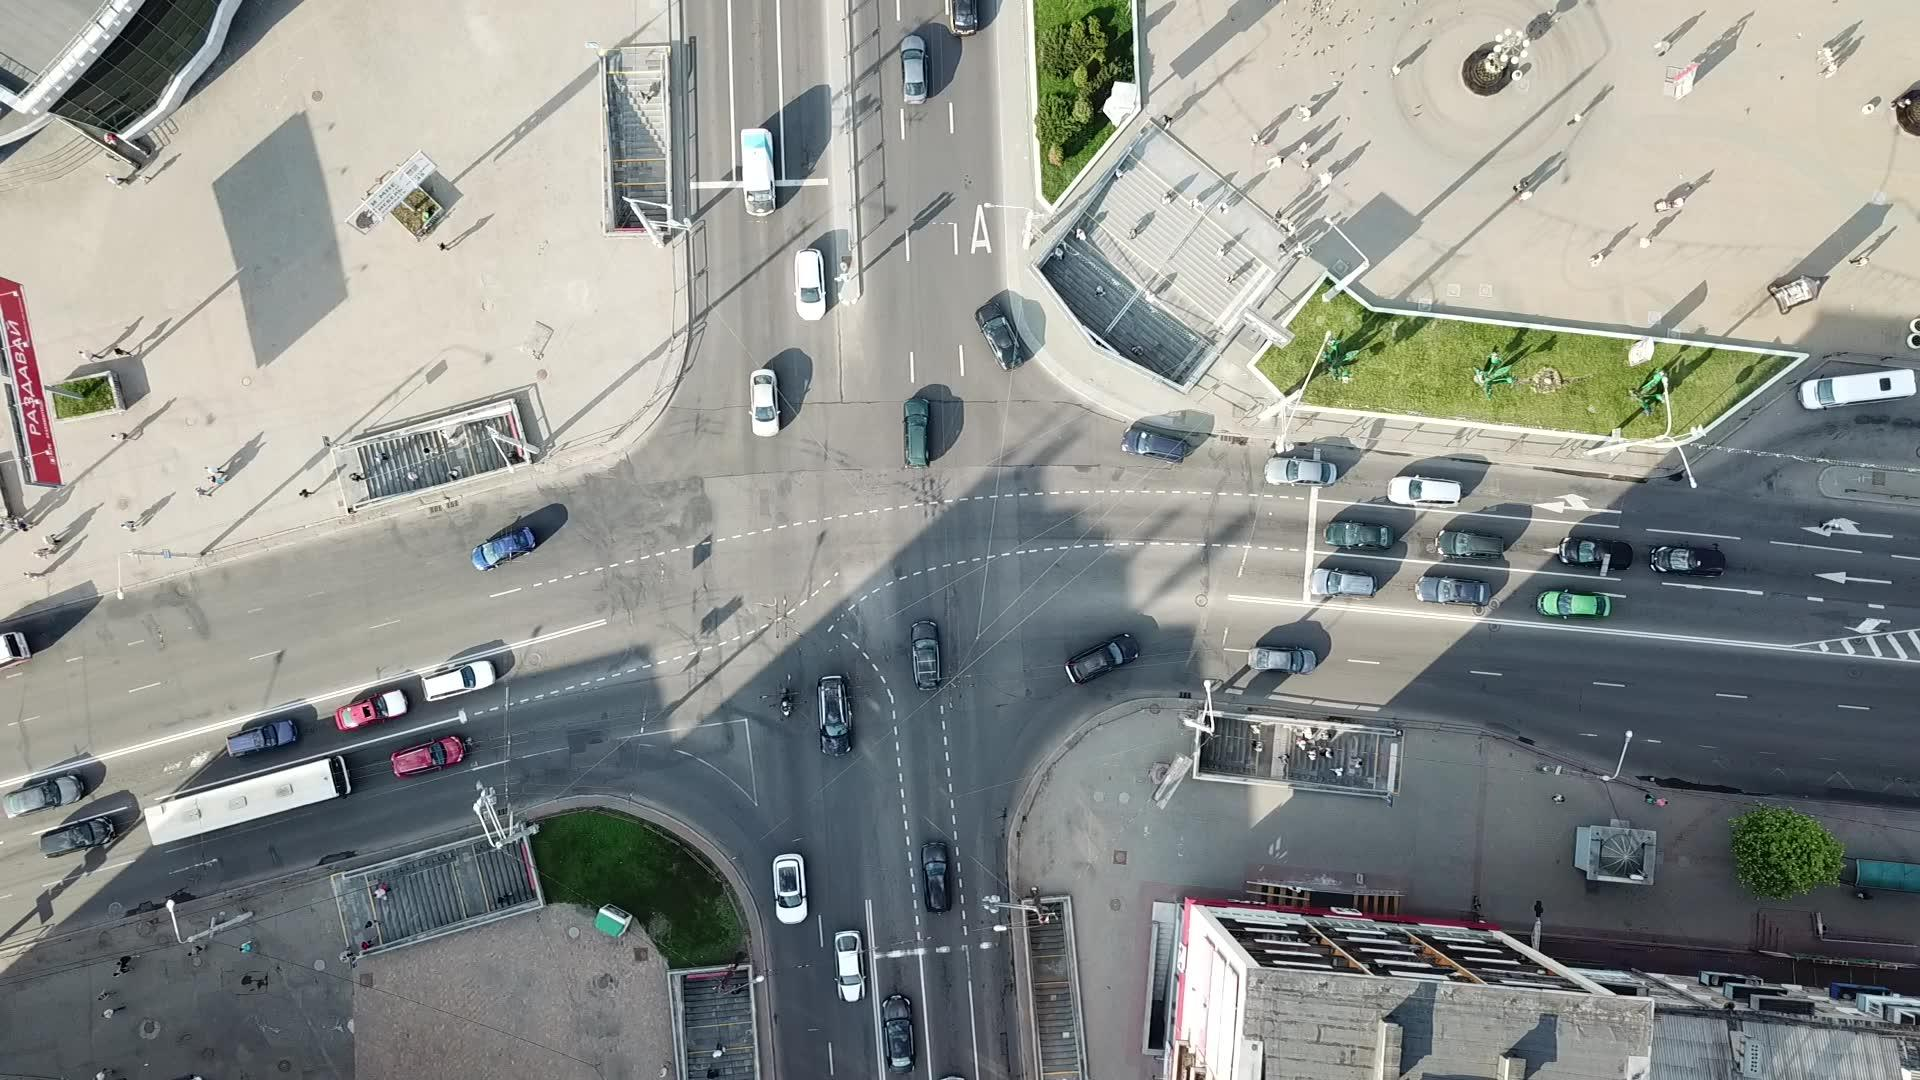car: (1063, 633, 1140, 684), (3, 768, 83, 817), (973, 301, 1025, 370), (389, 733, 466, 777), (39, 814, 113, 859), (334, 688, 408, 731), (881, 993, 919, 1076), (469, 525, 537, 570), (422, 659, 496, 700), (817, 675, 853, 758), (225, 719, 298, 755), (1647, 545, 1726, 578), (772, 853, 808, 925), (918, 841, 953, 913), (833, 929, 867, 1003), (1120, 426, 1186, 464), (1386, 475, 1462, 508), (896, 34, 930, 106), (909, 620, 943, 691), (1557, 537, 1633, 568), (1264, 455, 1337, 487), (1414, 576, 1491, 606), (1323, 519, 1394, 551), (1535, 590, 1612, 619), (796, 248, 827, 320), (1245, 645, 1317, 676), (901, 397, 932, 467), (1434, 528, 1505, 558), (749, 369, 780, 437), (1308, 567, 1376, 598)
